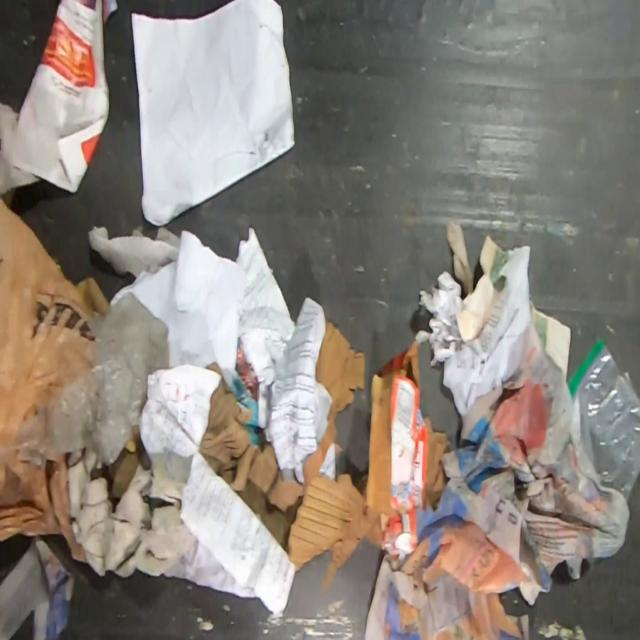cardboard: (199, 361, 304, 553), (287, 416, 384, 591), (364, 339, 428, 559), (315, 320, 366, 422), (424, 415, 450, 507)
soft_plastic: (0, 195, 110, 563), (17, 290, 173, 468), (566, 335, 640, 505)
